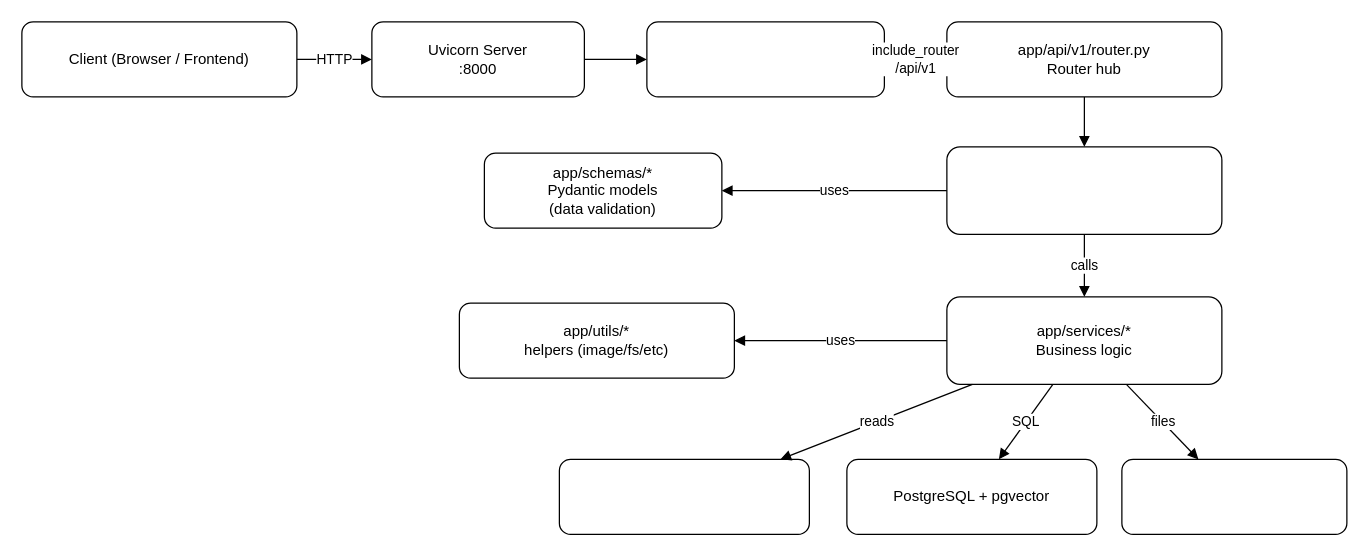
Image size: 1369x556. Some labels were removed from this diagram. The shapes that lost their labels are listed below. From the top down, each one's box as (x1, y1, x2, y2) in pixels, then its label:
(646, 21, 884, 97): app/main.py FastAPI app
(946, 146, 1222, 234): app/api/v1/routes/* HTTP endpoints
(558, 458, 809, 534): app/core/* config + logging
(1121, 458, 1347, 534): Object Storage (S3/MinIO)
